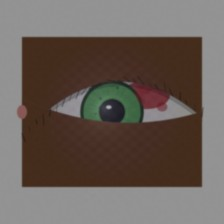hemorrhage_spot: (114, 69, 179, 121)
